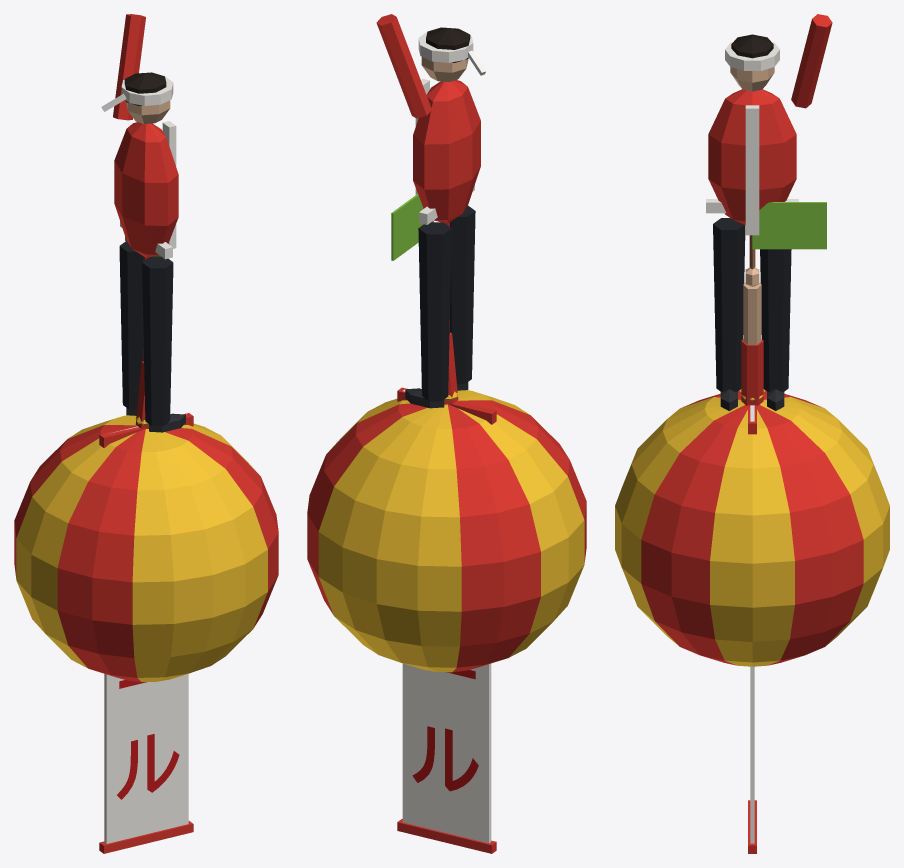
File: goal.glb
The picture shows the model from 3 angles, left to right: view 1: azimuth 30°, elevation 25°; view 2: azimuth 150°, elevation 25°; view 3: azimuth 270°, elevation 25°; orthographic projection. The views are drawn at different scales.
Parts seen in each view (by area): view 1: GL_BallL, GL_Fan0, GL_BallR, GL_Streamer; view 2: GL_BallL, GL_Fan0, GL_BallR, GL_Streamer, GL_FanArm; view 3: GL_BallR, GL_Fan0, GL_FanArm, GL_BallL, GL_Streamer.
Boxes of the visible parts, left/top/right/bottom form: GL_BallL: left=14, top=416, right=212, bottom=681; GL_Fan0: left=101, top=14, right=185, bottom=432; GL_BallR: left=124, top=415, right=278, bottom=672; GL_Streamer: left=99, top=413, right=193, bottom=853; GL_BallL: left=376, top=390, right=586, bottom=672; GL_Fan0: left=376, top=14, right=485, bottom=408; GL_BallR: left=307, top=390, right=470, bottom=662; GL_Streamer: left=397, top=387, right=496, bottom=853; GL_FanArm: left=391, top=194, right=458, bottom=404; GL_BallR: left=615, top=402, right=889, bottom=666; GL_Fan0: left=706, top=14, right=832, bottom=410; GL_FanArm: left=741, top=202, right=826, bottom=405; GL_BallL: left=616, top=389, right=888, bottom=501; GL_Streamer: left=748, top=405, right=756, bottom=853.
Bounding box in the file's own units: 1.18 × 3.91 × 1.18.
